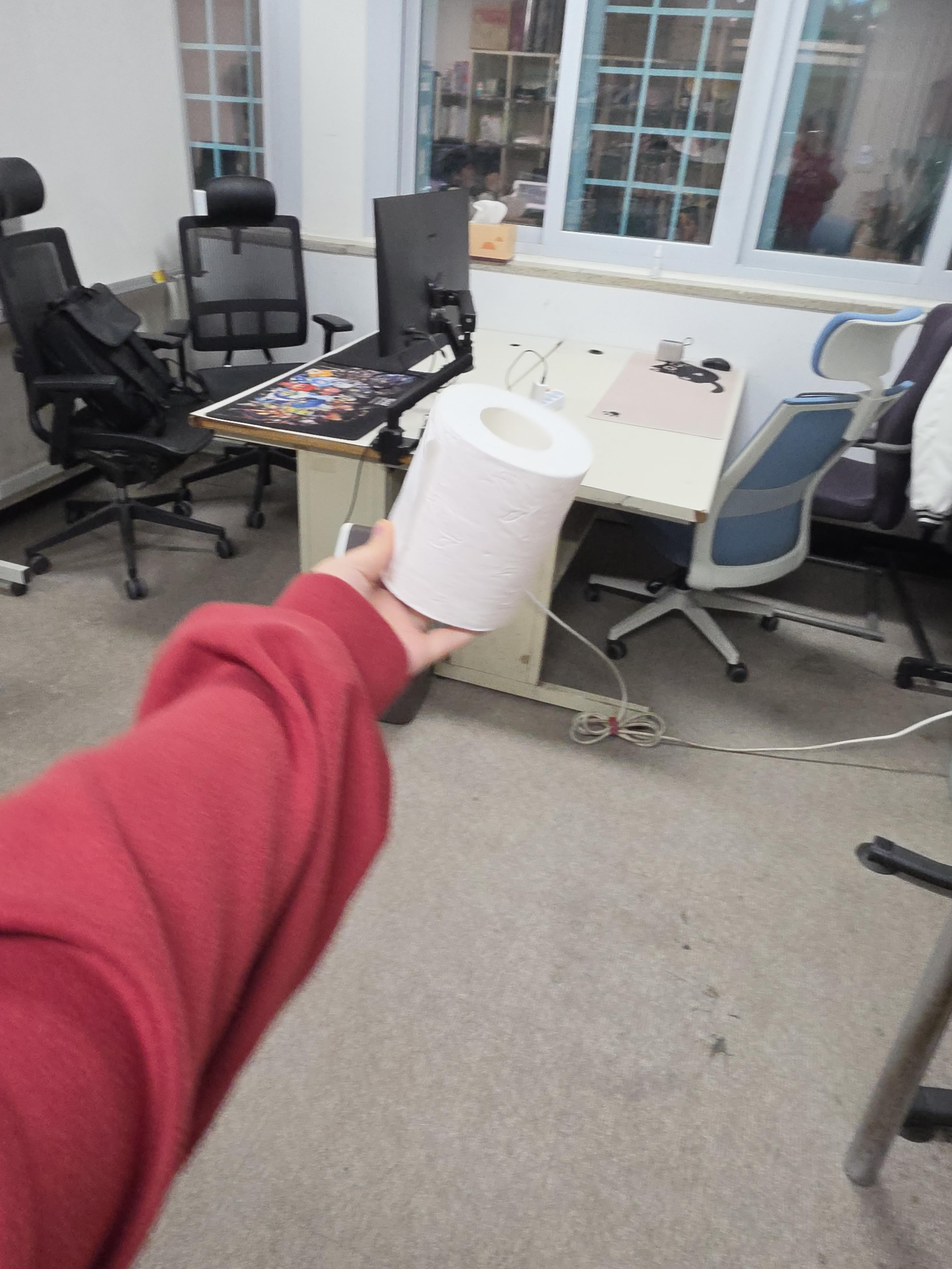tissue: (380, 383, 592, 633), (469, 199, 517, 263)
